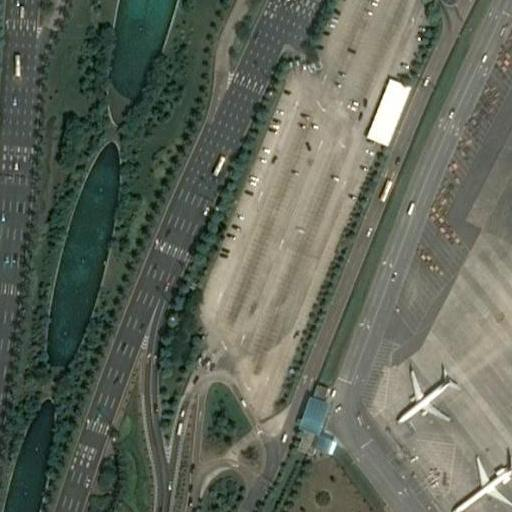Aircraft: (387, 365, 456, 425), (447, 454, 512, 512)
